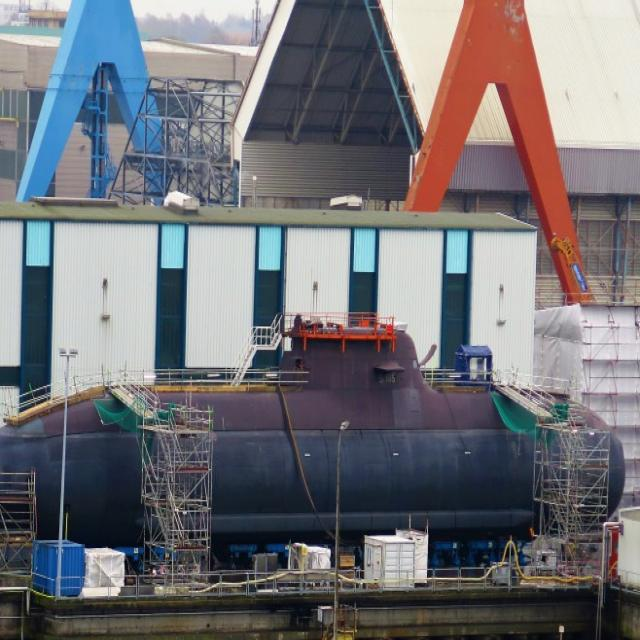submarine: (1, 311, 640, 513)
